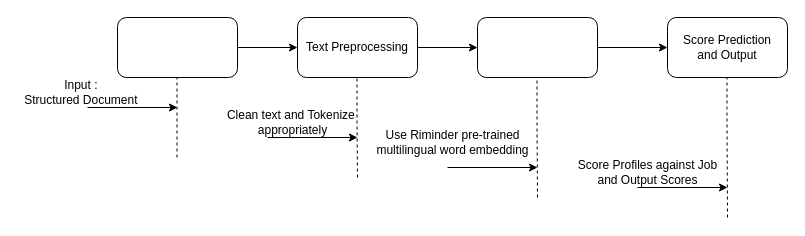
Some shapes in this 805 by 236 pixel diagram are drawn without their labels. The centre of each missing label's shape, as x and y in pixels:
Profiles and Job: (177,47)
Vectorization: (537,47)
